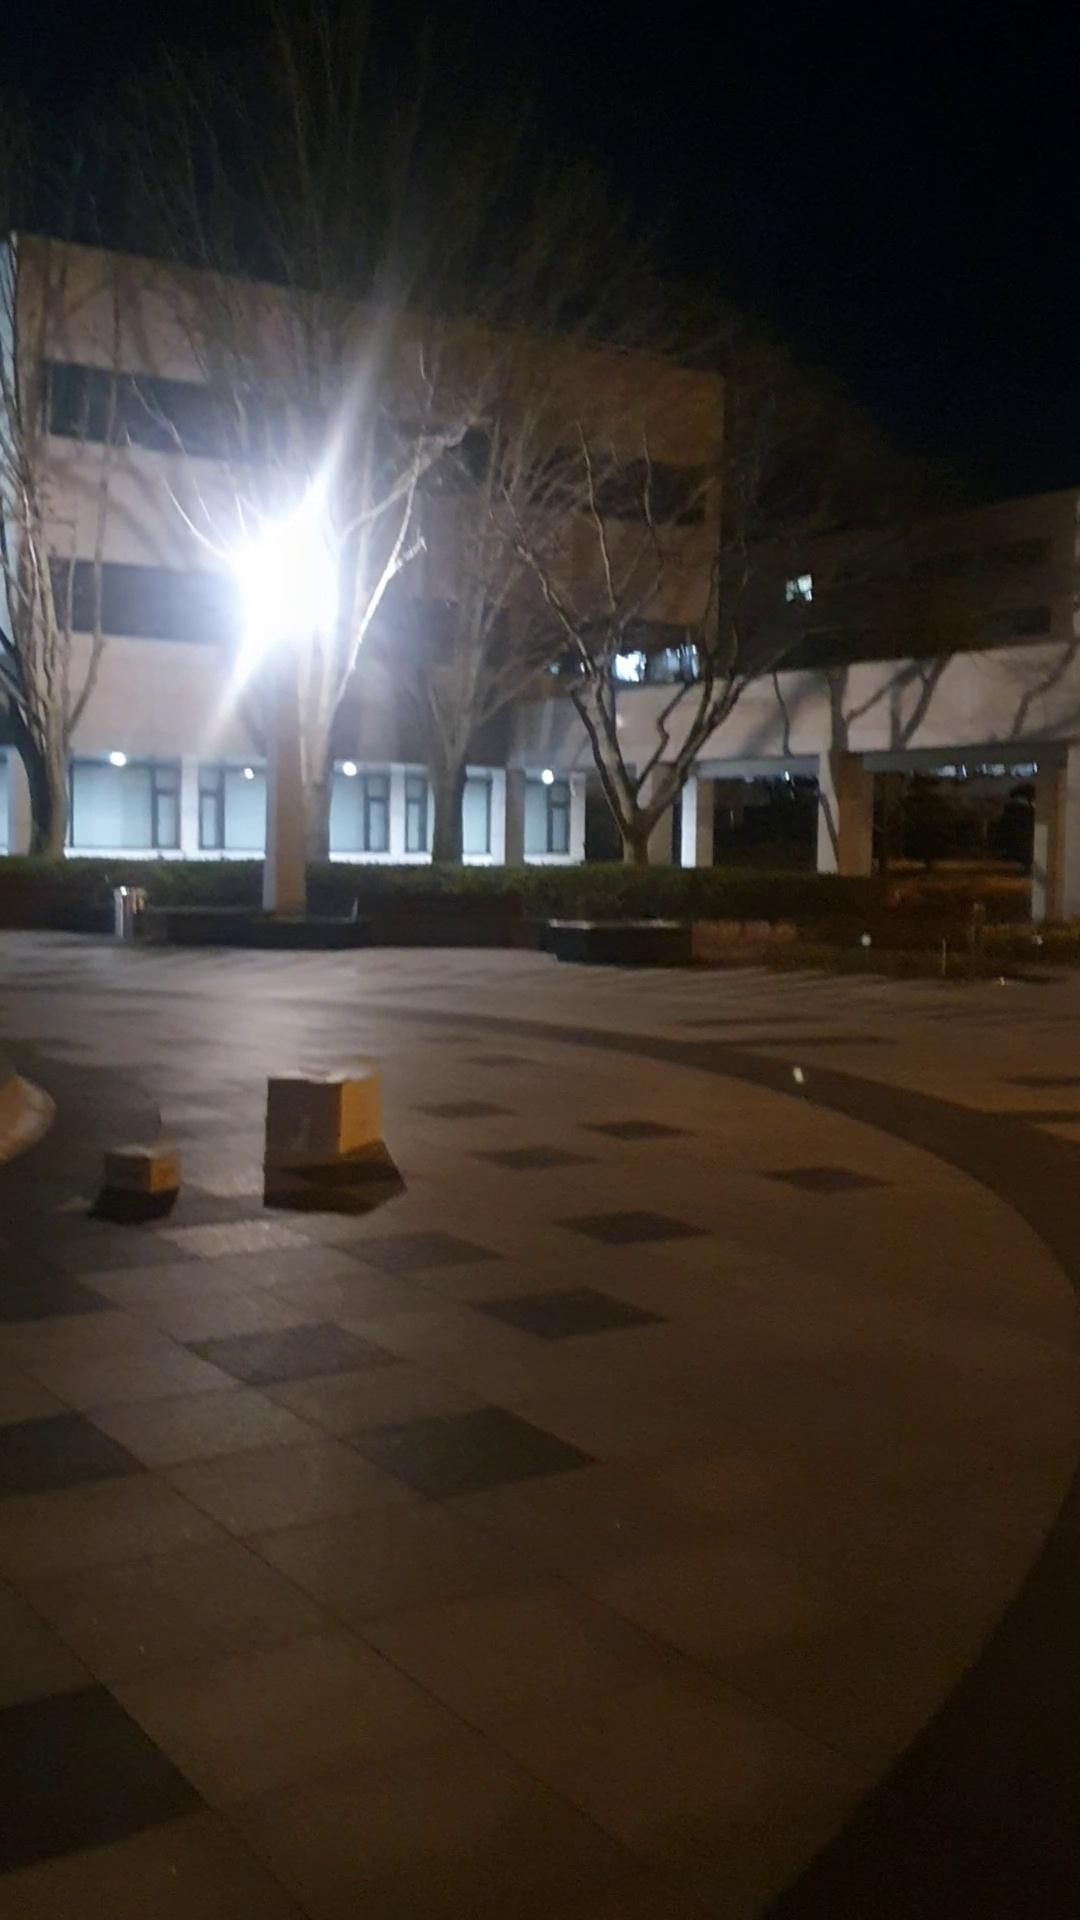Box: (261, 1058, 382, 1180), (103, 1138, 196, 1195)
